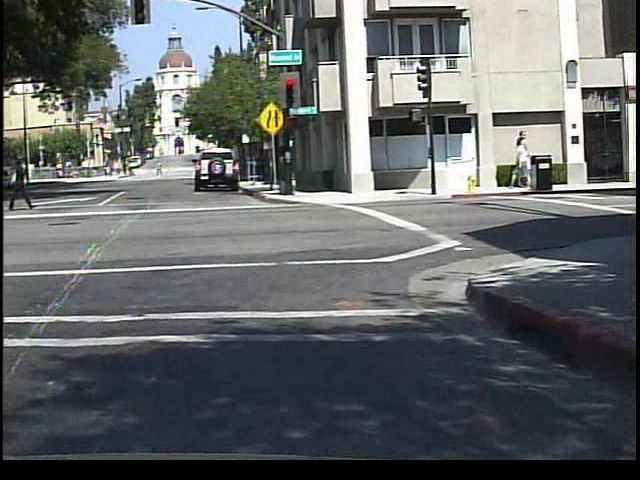person: (6, 155, 34, 213), (3, 169, 30, 229), (154, 160, 164, 179)
